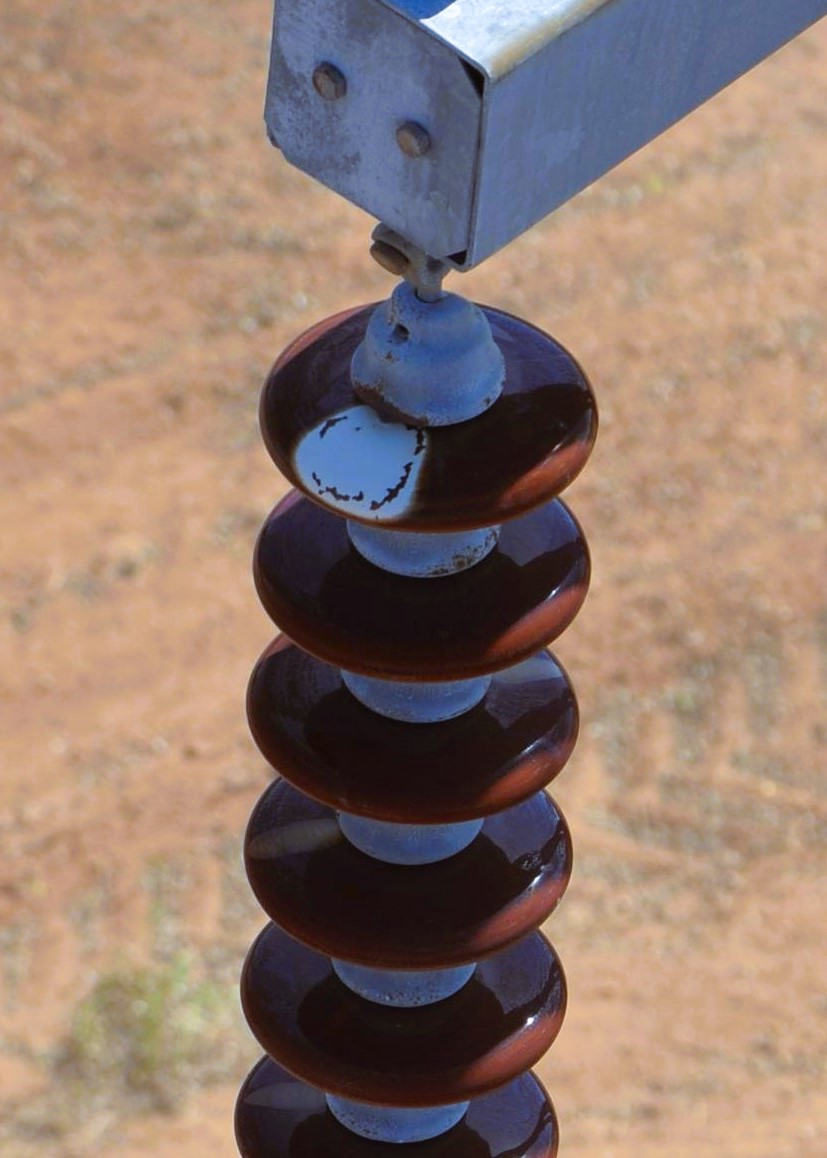Insulator flashover: (244, 295, 609, 538)
